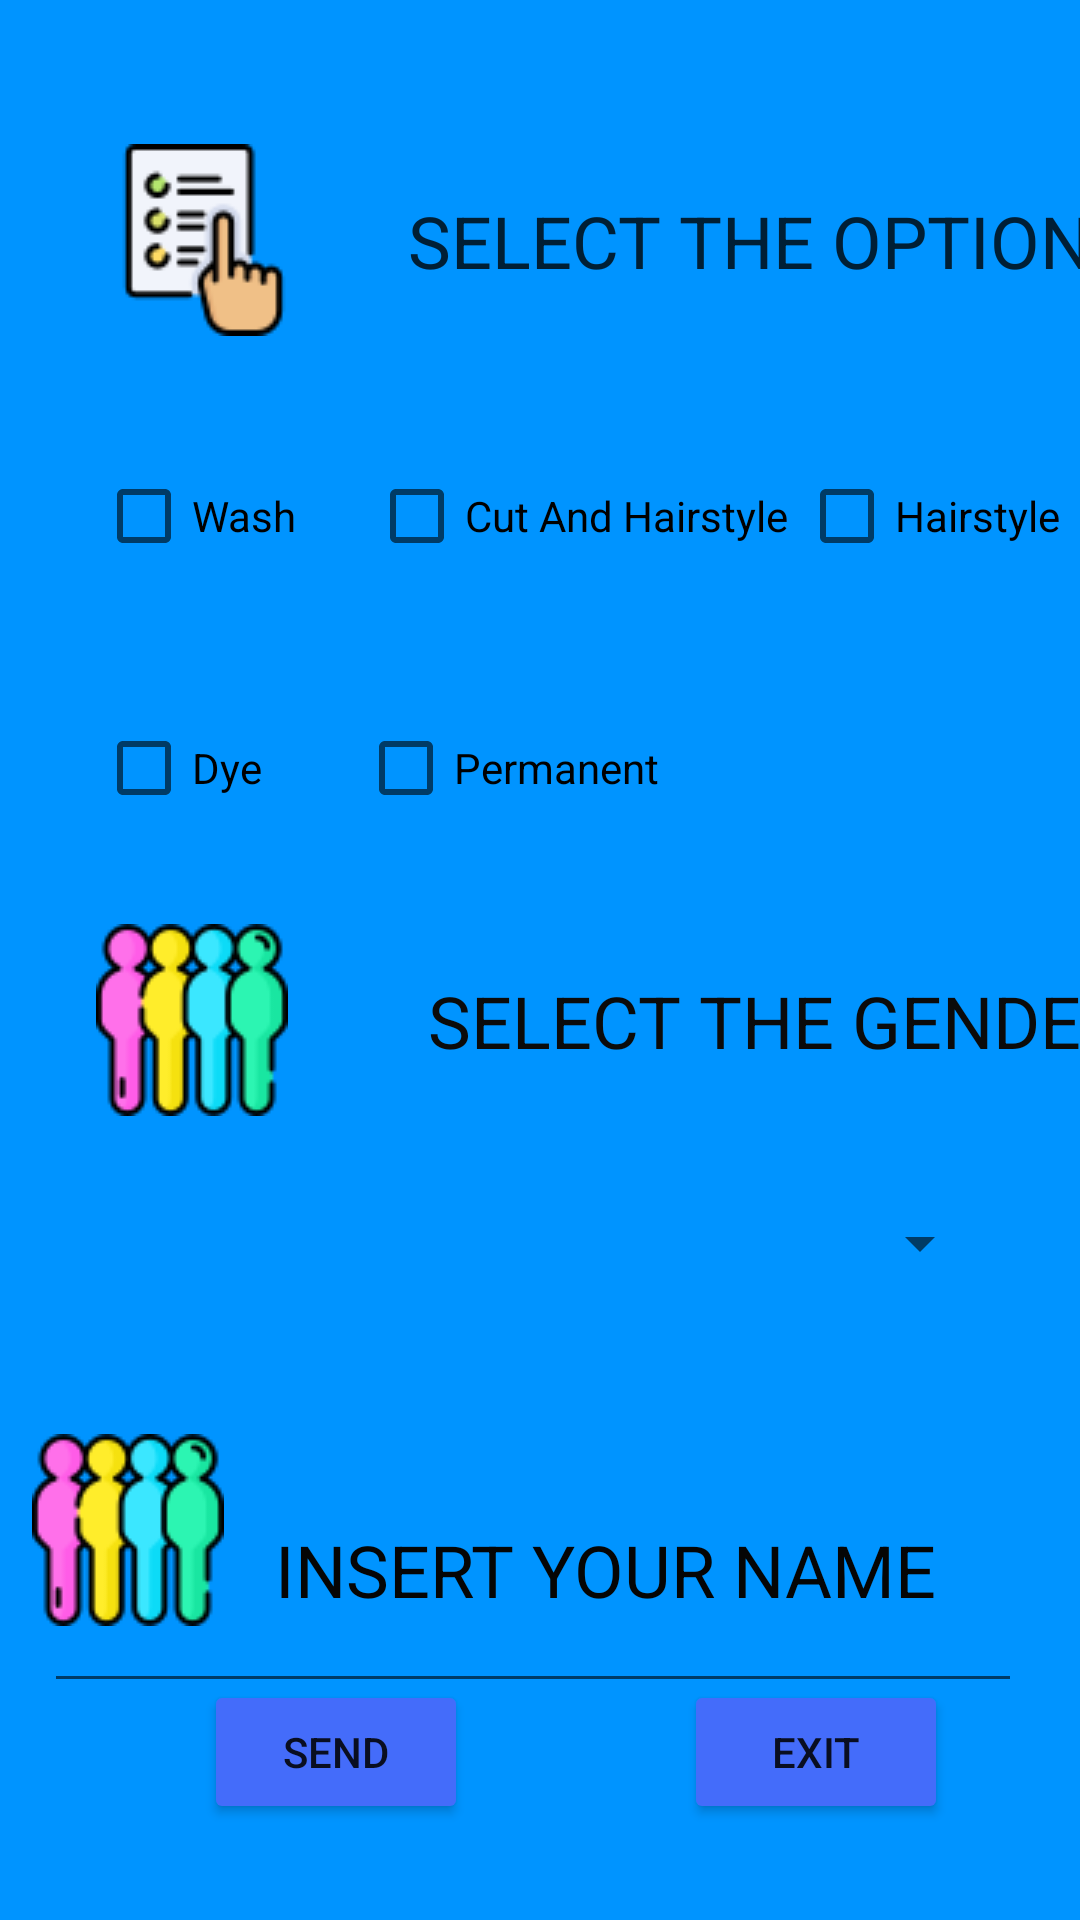

Screen size 1080w x 1920h. Icon name, then its center in pixels as (x,y):
genero: (192,1020), (128,1530)
opciones: (204,240)
